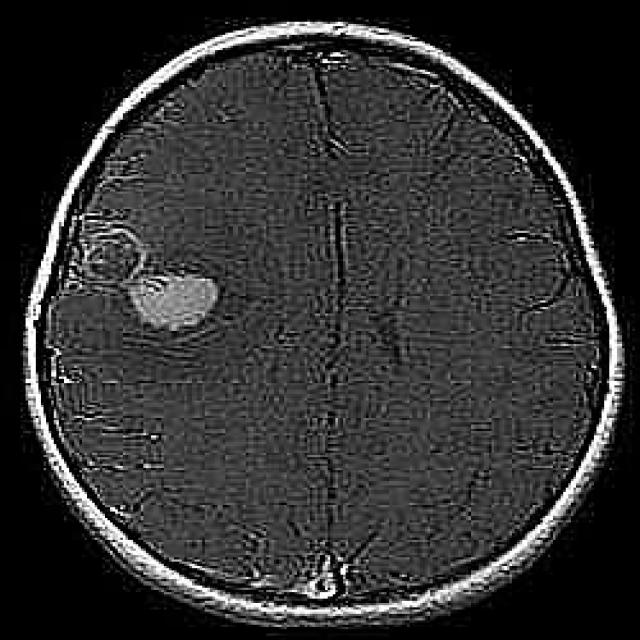Tumor-Cell: (71, 217, 219, 336)
